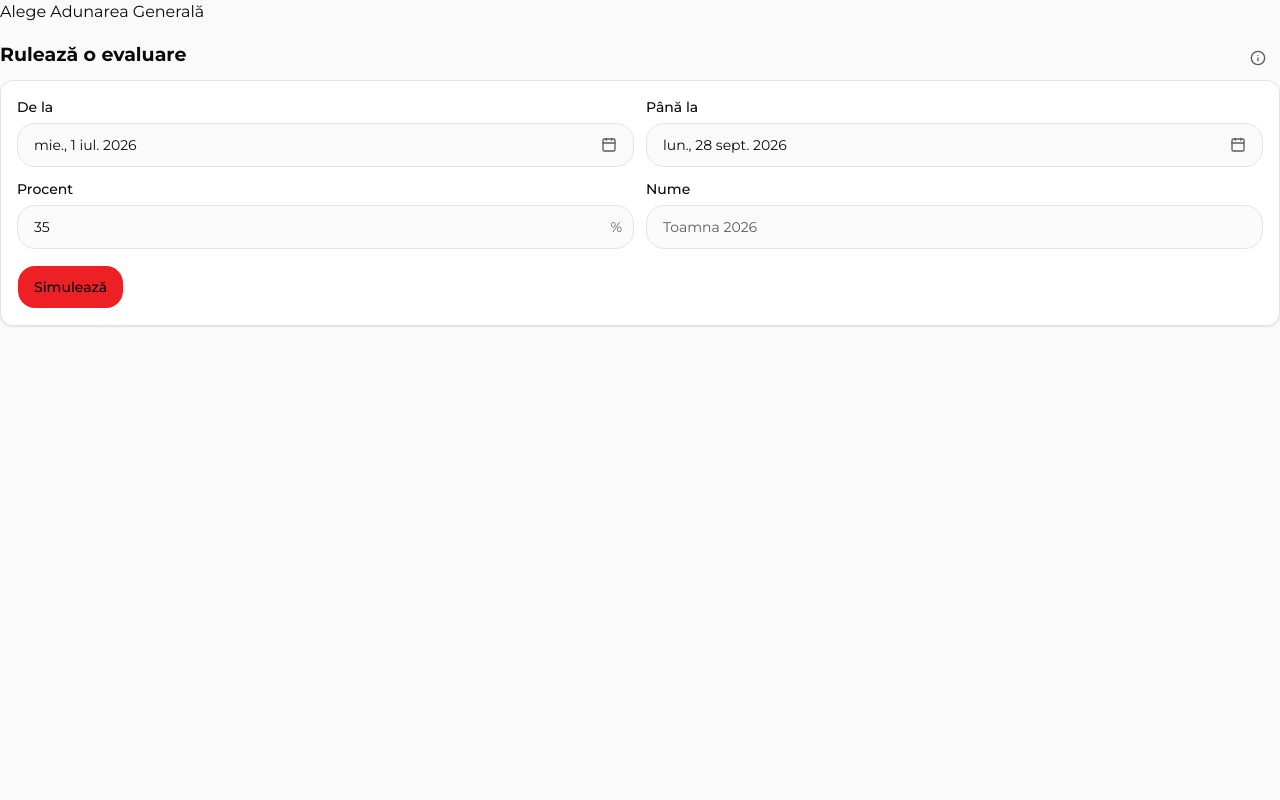
it: simulates without a name, but Finalizează asks for it before the confirmation opens
Expected: the number field labelled "Procent" is empty, [17, 205, 634, 249]
Click the button "Simulează": click(71, 287) [17, 265, 124, 309]
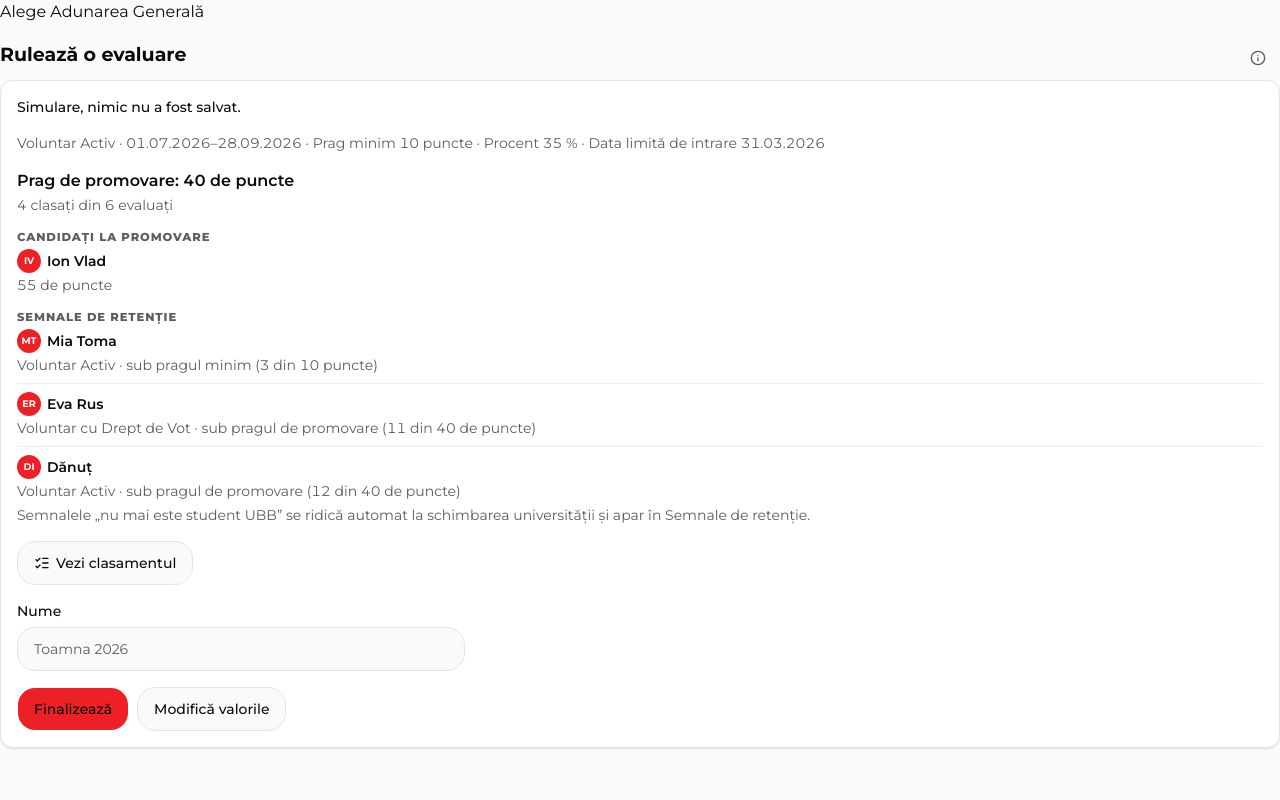
Click the button "Finalizează": click(73, 709) [17, 687, 129, 731]
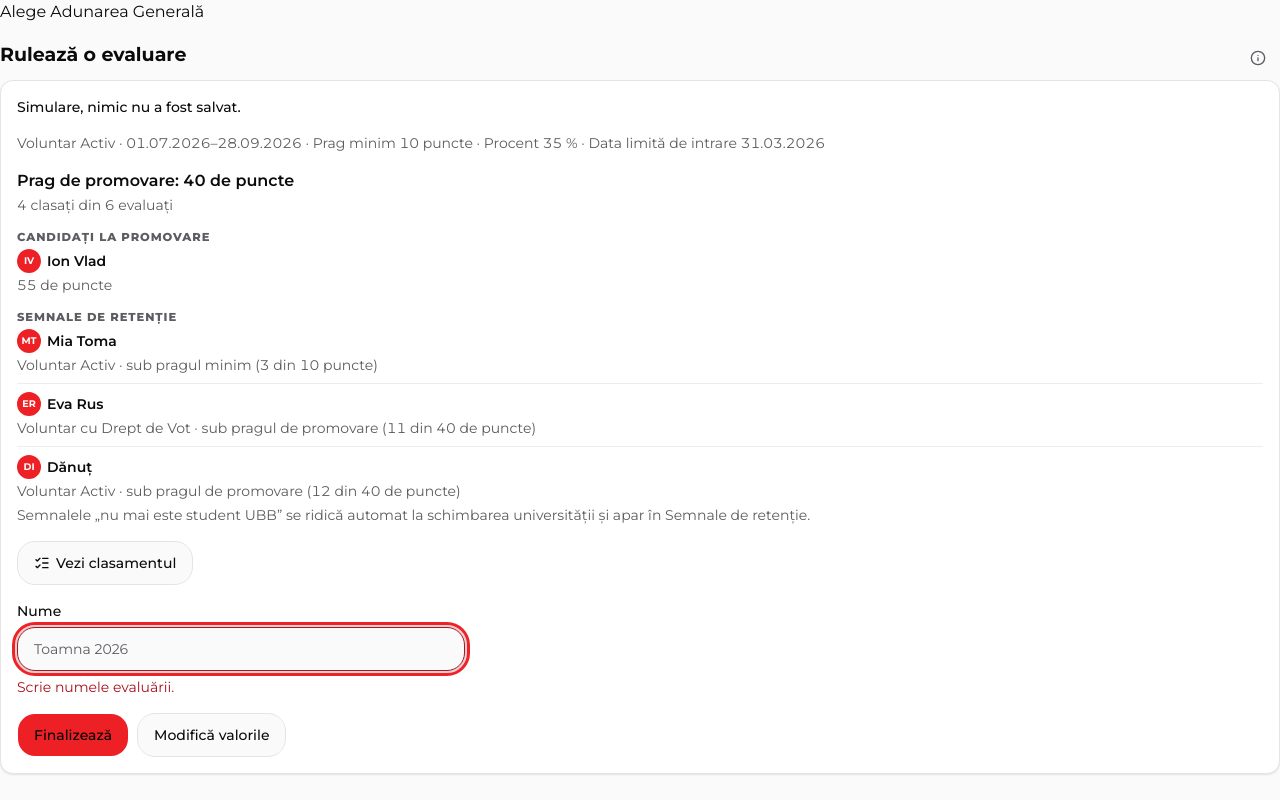
In the field labelled "Nume": (241, 649) [17, 627, 465, 671], type "ab"
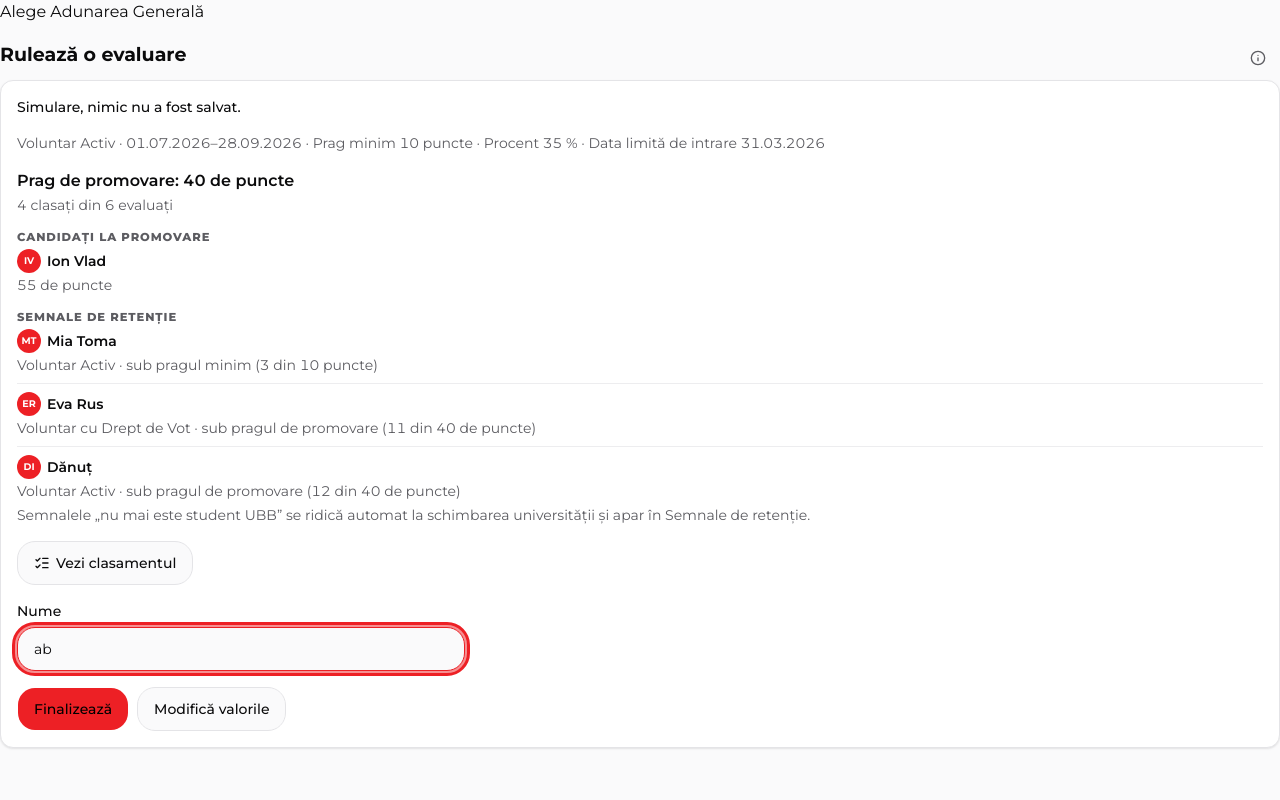
Click the button "Finalizează": click(73, 709) [17, 687, 129, 731]
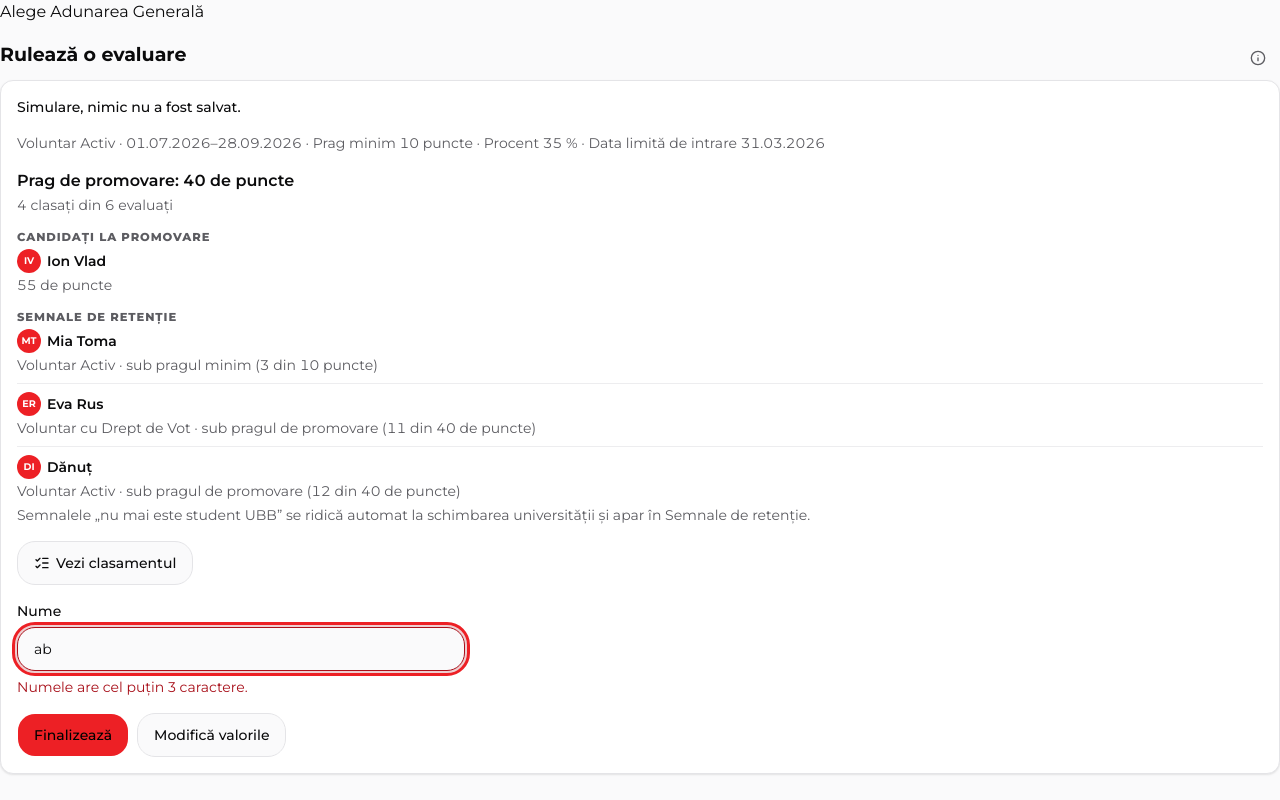
In the field labelled "Nume": (241, 649) [17, 627, 465, 671], type "c"
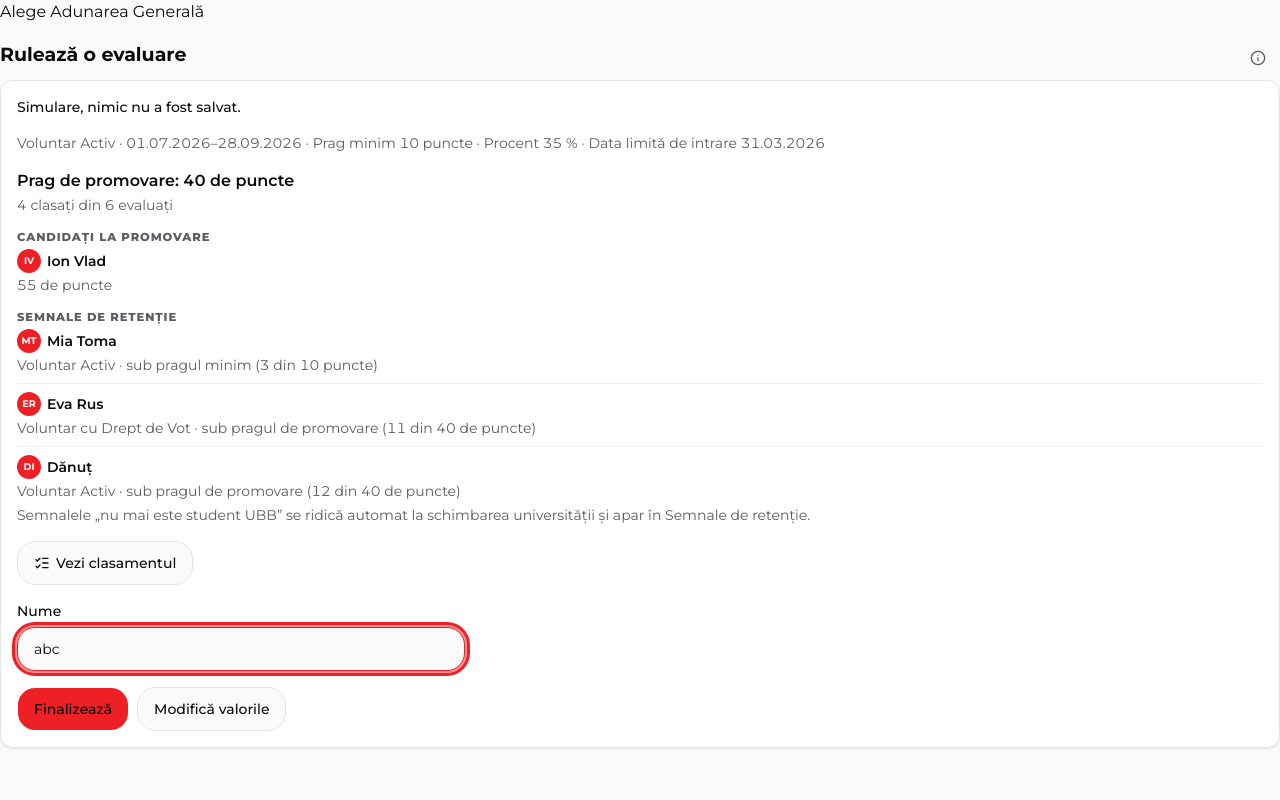
Click the button "Finalizează": click(73, 709) [17, 687, 129, 731]
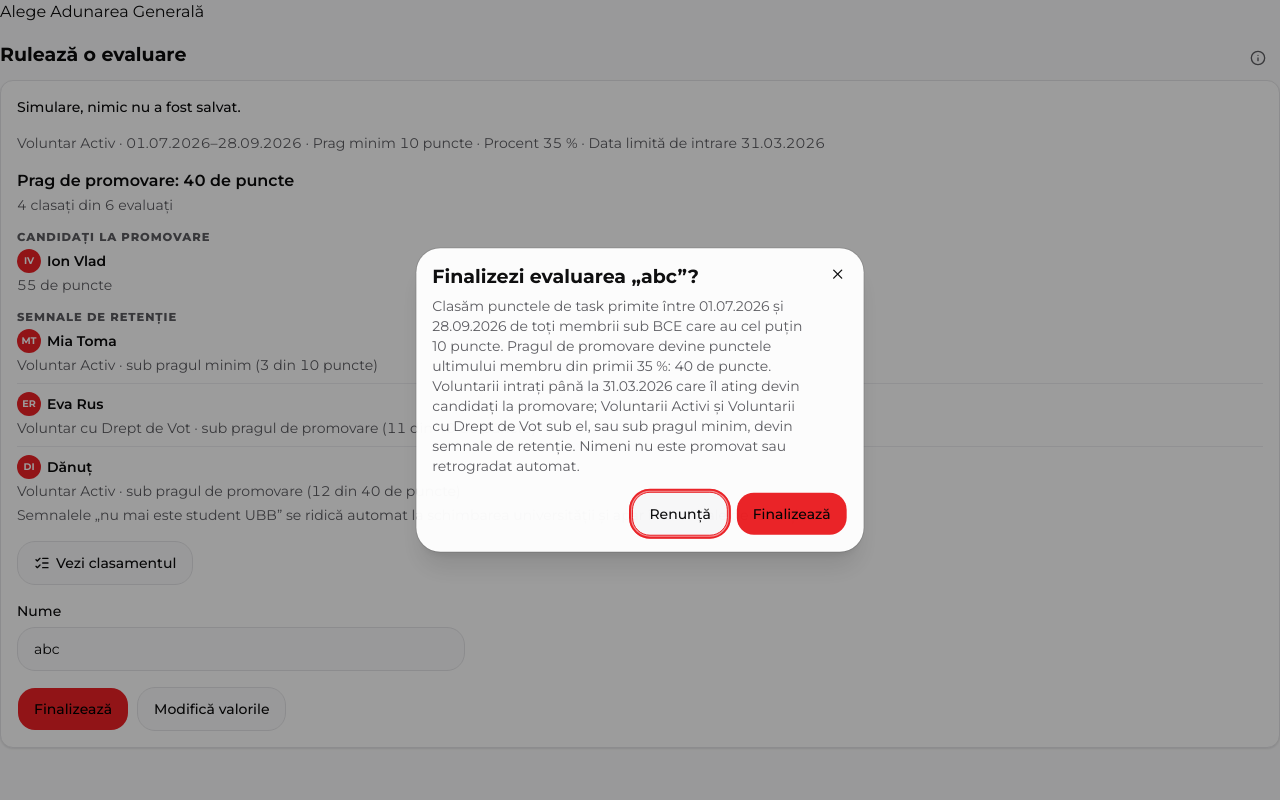
Expected: the dialog is shown, [416, 248, 864, 552]
